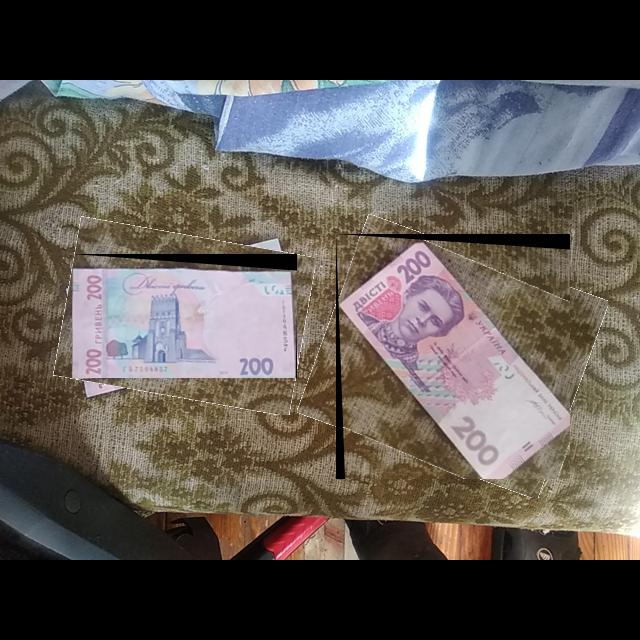200uah: (338, 239, 571, 480), (72, 268, 296, 379)
